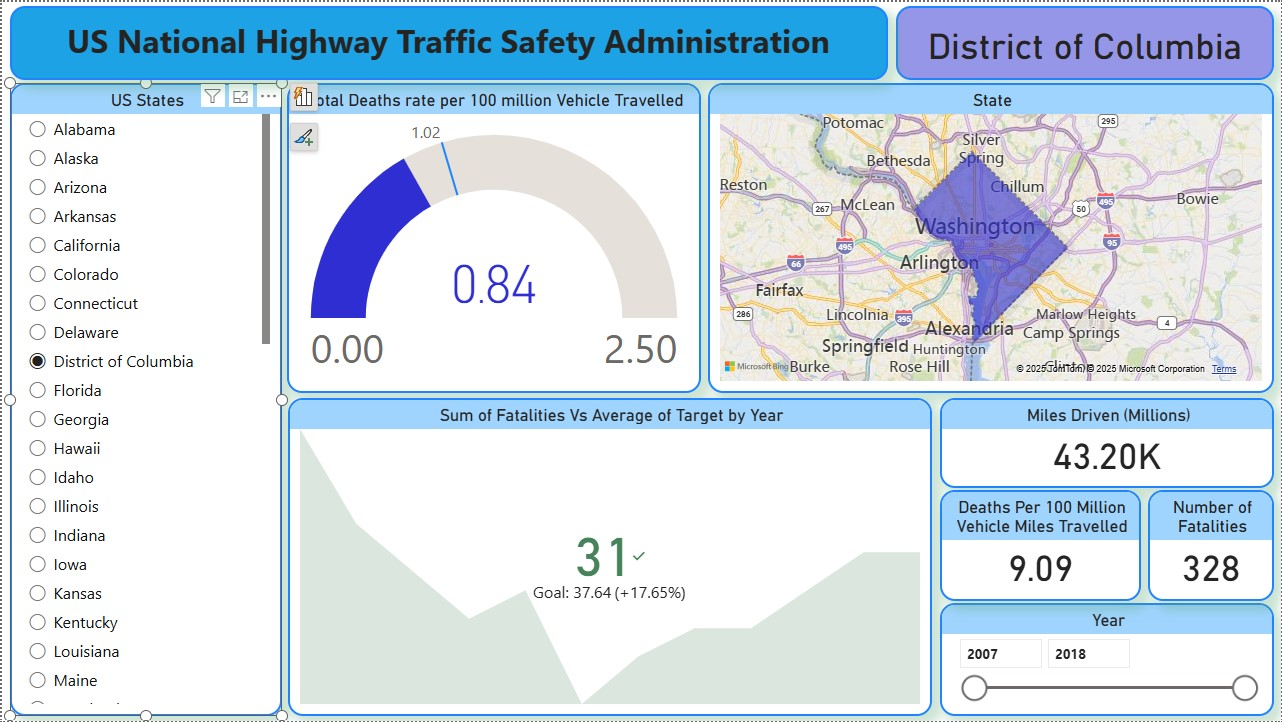

This screenshot's page, from the dashboard's own definition file:
{"tool":"powerbi","page":{"name":"Dashboard","canvas":[1280,720],"ordinal":0},"visuals":[{"type":"slicer","title":"US States","fields":{"Values":["PA - Driving Safety.State"]},"box":[8.1,80.6,272.2,633.1],"z":0},{"type":"card","title":"Selected US State","fields":{"Values":["Min(PA - Driving Safety.State)"]},"box":[894,4,378,73.6],"z":1000},{"type":"gauge","title":"Total Deaths rate per 100 million Vehicle Travelled","fields":{"Y":["Sum(PA - Driving Safety.2018 Deaths per 100 million vehicle miles traveled)"]},"box":[285.3,80.8,414,310],"z":2000},{"type":"filledMap","fields":{"Category":["PA - Driving Safety.State"]},"box":[706.3,80.8,566,310],"z":3000},{"type":"kpi","title":"Sum of Fatalities Vs Average of Target by Year","fields":{"Indicator":["Sum(PA - Driving Safety.Fatalities)"],"TrendLine":["PA - Driving Safety.Year"],"Goal":["Avg(PA - Driving Safety.Target)"]},"box":[285.7,395.8,643.9,317.9],"z":4000},{"type":"card","title":"Miles Driven (Millions)","fields":{"Values":["Sum(PA - Driving Safety.Miles (millions))"]},"box":[937.6,395.9,334.6,89.7],"z":5000},{"type":"slicer","title":"Year","fields":{"Values":["PA - Driving Safety.Year"]},"box":[937.6,600.9,334,112.8],"z":6000},{"type":"textbox","box":[8.1,4,877.9,73.6],"z":7000},{"type":"card","title":"Deaths Per 100 Million Vehicle Miles Travelled","fields":{"Values":["Sum(PA - Driving Safety.Deaths per 100 million vehicle miles traveled)"]},"box":[937.6,488.2,201.6,110.9],"z":8000},{"type":"card","title":"Number of Fatalities","fields":{"Values":["Sum(PA - Driving Safety.Fatalities)"]},"box":[1146.3,488.2,126,110.9],"z":9000}]}

Visuals, with their boxes in screenshot pixels (x1, y1, x2, y2), scaled from the page's 1280x720 canvas onto the 1282x722 screenshot:
"US States" slicer: left=8, top=81, right=281, bottom=716
"Selected US State" card: left=895, top=4, right=1274, bottom=78
"Total Deaths rate per 100 million Vehicle Travelled" gauge: left=286, top=81, right=700, bottom=392
filledMap - PA - Driving Safety.State: left=707, top=81, right=1274, bottom=392
"Sum of Fatalities Vs Average of Target by Year" kpi: left=286, top=397, right=931, bottom=716
"Miles Driven (Millions)" card: left=939, top=397, right=1274, bottom=487
"Year" slicer: left=939, top=603, right=1274, bottom=716
textbox: left=8, top=4, right=887, bottom=78
"Deaths Per 100 Million Vehicle Miles Travelled" card: left=939, top=490, right=1141, bottom=601
"Number of Fatalities" card: left=1148, top=490, right=1274, bottom=601
